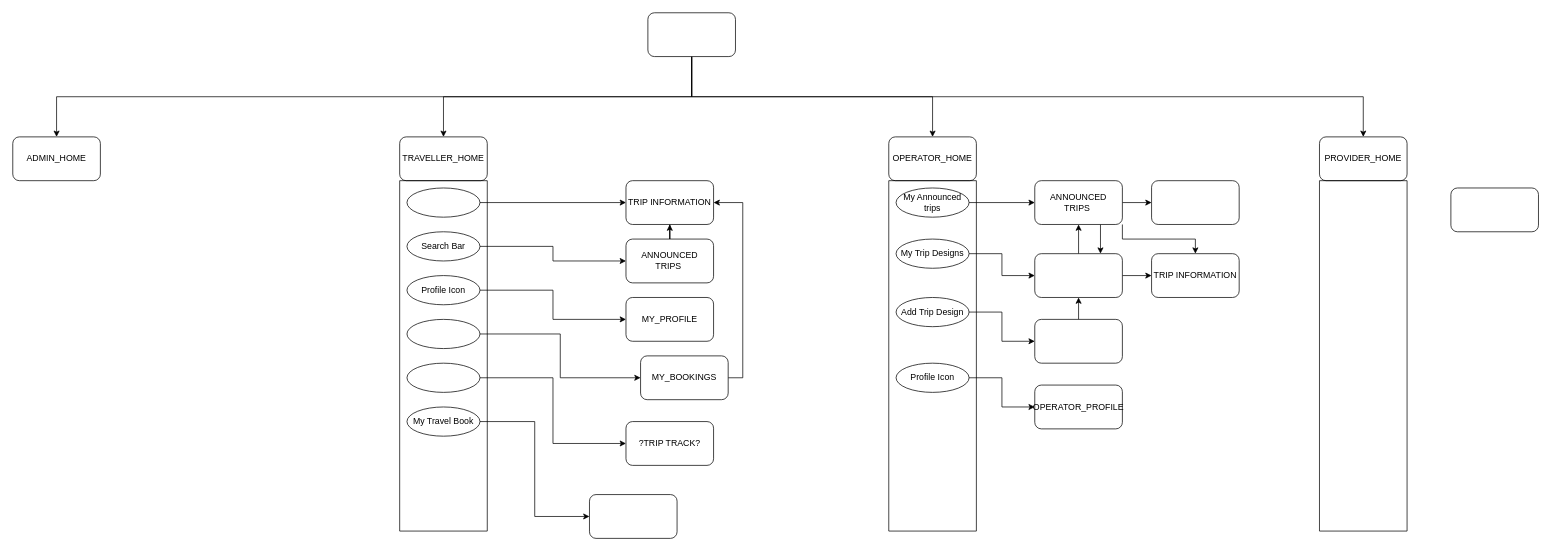
The diagram is 1551 pixels wide and 551 high, and some of its shapes have lost their labels. The box of each missing label's shape, as (x1, y1, x2, y2) in pixels:
Active Bookings: (406, 319, 480, 349)
Active Trips: (406, 362, 480, 392)
BOOKING HISTORY("My Travel Book"): (589, 494, 677, 538)
Featured Trips: (406, 187, 480, 217)
LOGIN PAGE: (647, 12, 735, 57)
ROOMS: (1450, 187, 1538, 232)
TRIP BOOKINGS: (1151, 180, 1239, 224)
TRIP DESIGNER: (1034, 319, 1122, 363)
TRIP DESIGNS: (1034, 253, 1122, 297)
